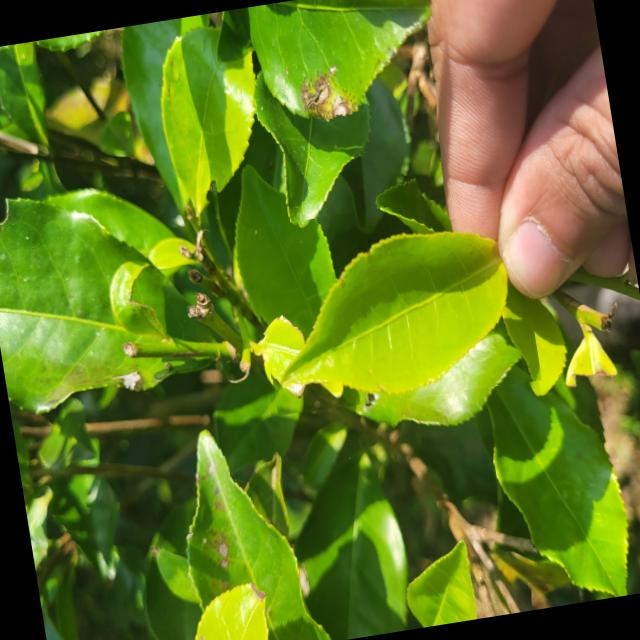Catagory A(1-2 days): (245, 188, 542, 422)
